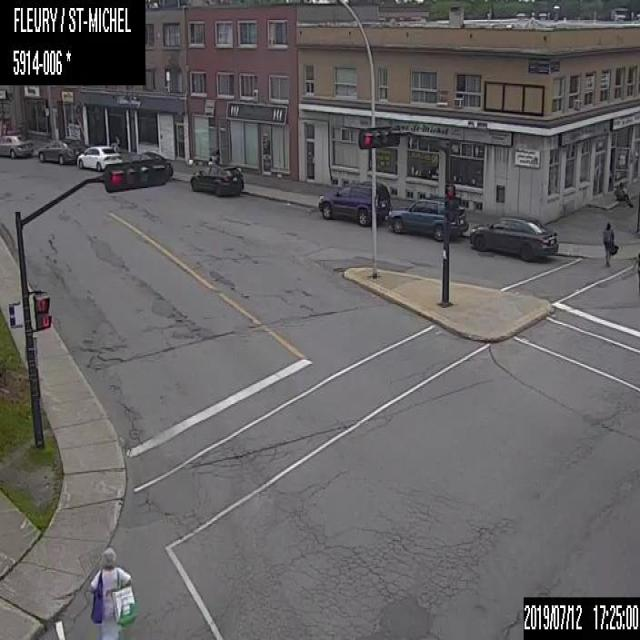pedestrian: (88, 545, 138, 639), (601, 221, 618, 267), (614, 179, 632, 205)
vehicle: (466, 212, 559, 261), (316, 177, 390, 227), (384, 196, 468, 240), (188, 160, 242, 195), (76, 142, 125, 172), (34, 137, 83, 164), (0, 133, 34, 159)
